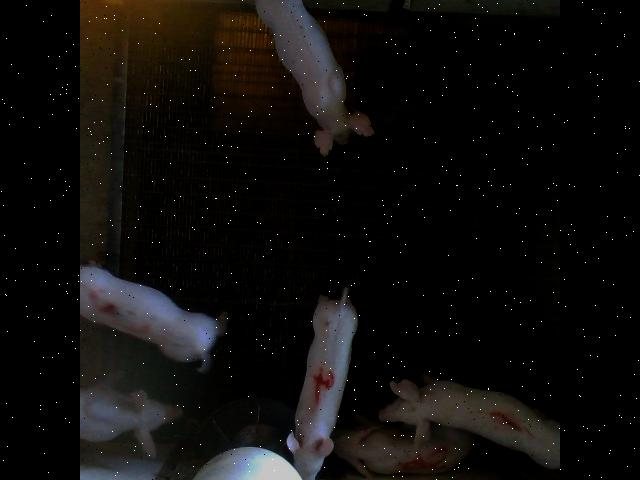pig-1: (379, 375, 560, 467)
pig-3: (81, 265, 227, 369)
pig-4: (287, 286, 358, 480)
pig-5: (332, 412, 478, 476)
